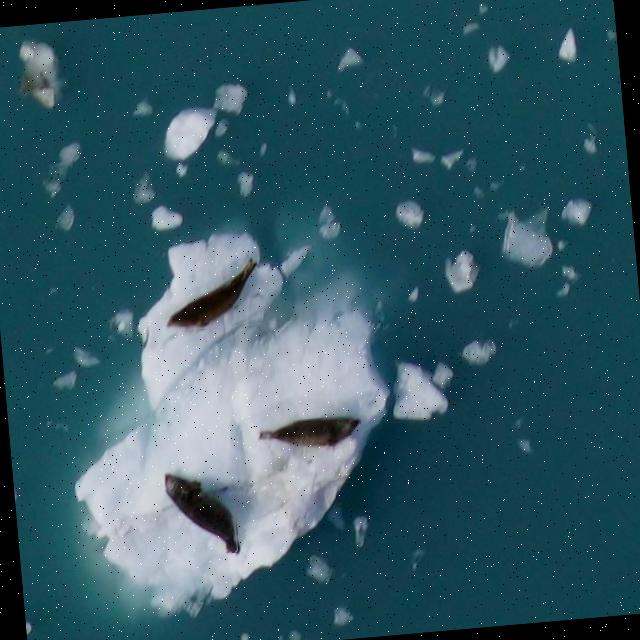seal: (160, 253, 272, 348), (152, 458, 256, 559), (260, 414, 361, 454)
